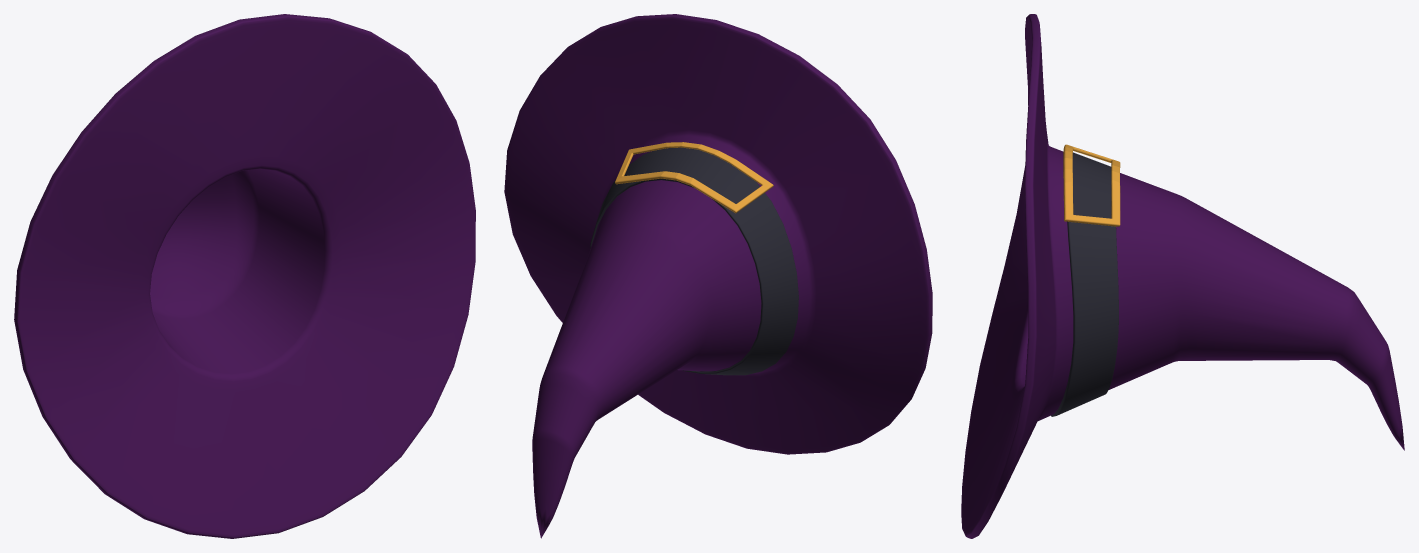
Rendered from WitchHat.fbx.
The picture shows the model from 3 angles, left to right: view 1: azimuth 30°, elevation 25°; view 2: azimuth 150°, elevation 25°; view 3: azimuth 270°, elevation 25°; orthographic projection. The views are drawn at different scales.
Parts seen in each view (by area): view 1: Witch_high; view 2: Witch_high; view 3: Witch_high.
Part boxes in pixels (left/top/right/bottom): Witch_high: left=14, top=14, right=475, bottom=538; Witch_high: left=504, top=14, right=932, bottom=538; Witch_high: left=961, top=14, right=1404, bottom=538.
Bounding box in the file's own units: 15.55 × 15.76 × 13.26.
